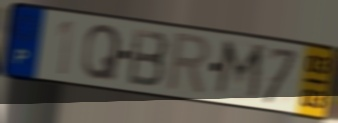1: (57, 19, 75, 76)
7: (262, 46, 300, 106)
B: (125, 26, 171, 90)
M: (212, 37, 268, 105)
Q: (80, 23, 124, 83)
R: (163, 31, 213, 99)
